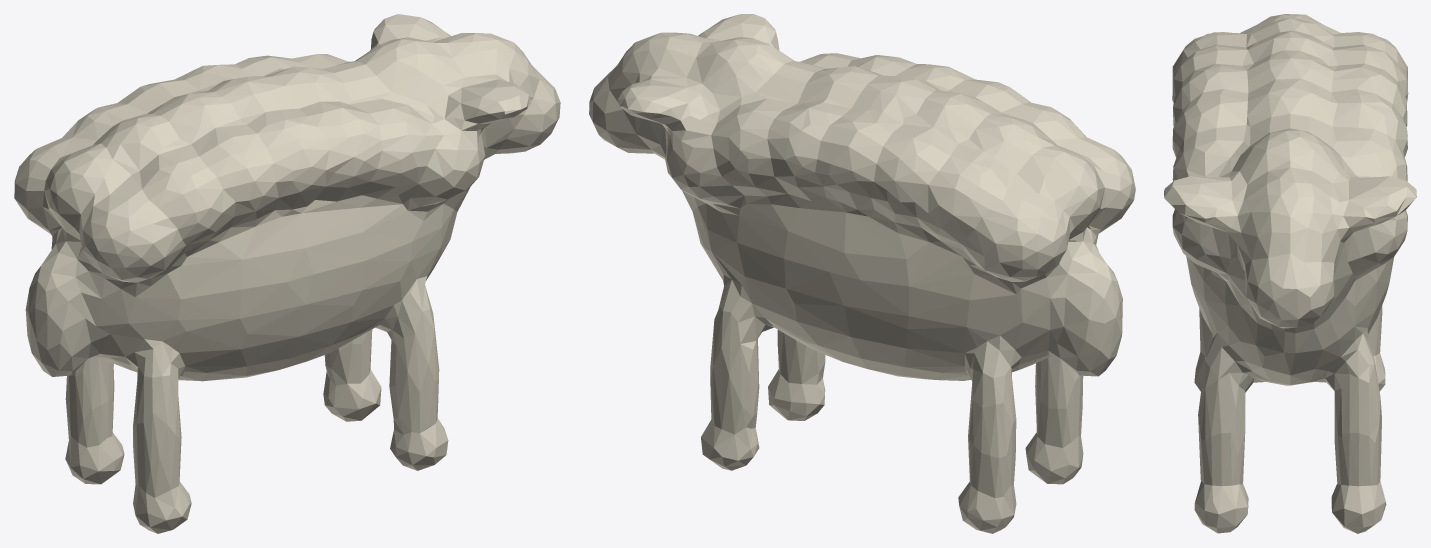
The model's file is NEW_RECOVERY_018_LOD0.glb.
3 views of the same model, side by side, from view 1: azimuth 30°, elevation 25°; view 2: azimuth 150°, elevation 25°; view 3: azimuth 270°, elevation 25° (orthographic).
Visible parts, largest first — view 1: Sheep_solid; view 2: Sheep_solid; view 3: Sheep_solid.
Part boxes in pixels (<box>): Sheep_solid: <box>14,14,560,533</box>; Sheep_solid: <box>589,14,1135,533</box>; Sheep_solid: <box>1164,14,1416,533</box>.
Bounding box in the file's own units: 2.61 × 1.89 × 1.07.
